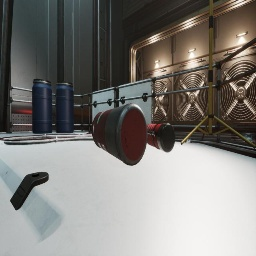FireExtinguisher ]: (147, 123, 175, 153)
NitrogenTank ,: (91, 103, 148, 166)
